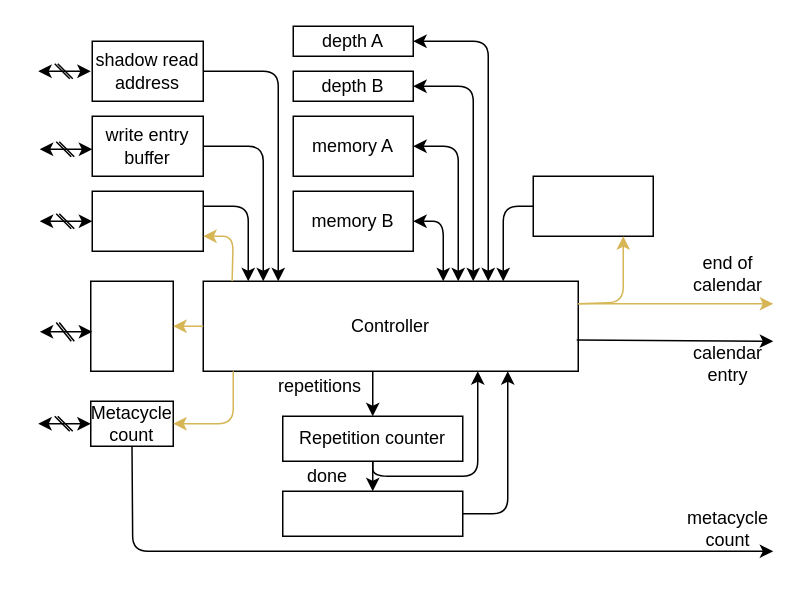
The diagram is 812 pixels wide and 590 high, and some of its shapes have lost their labels. The centre of each missing label's shape, as x and y in pixels:
"active buffer" goes at (x=592, y=205).
"arm calender swap" goes at (x=147, y=220).
"end of metacycle" goes at (x=131, y=325).
"Entry counter" goes at (x=372, y=513).
